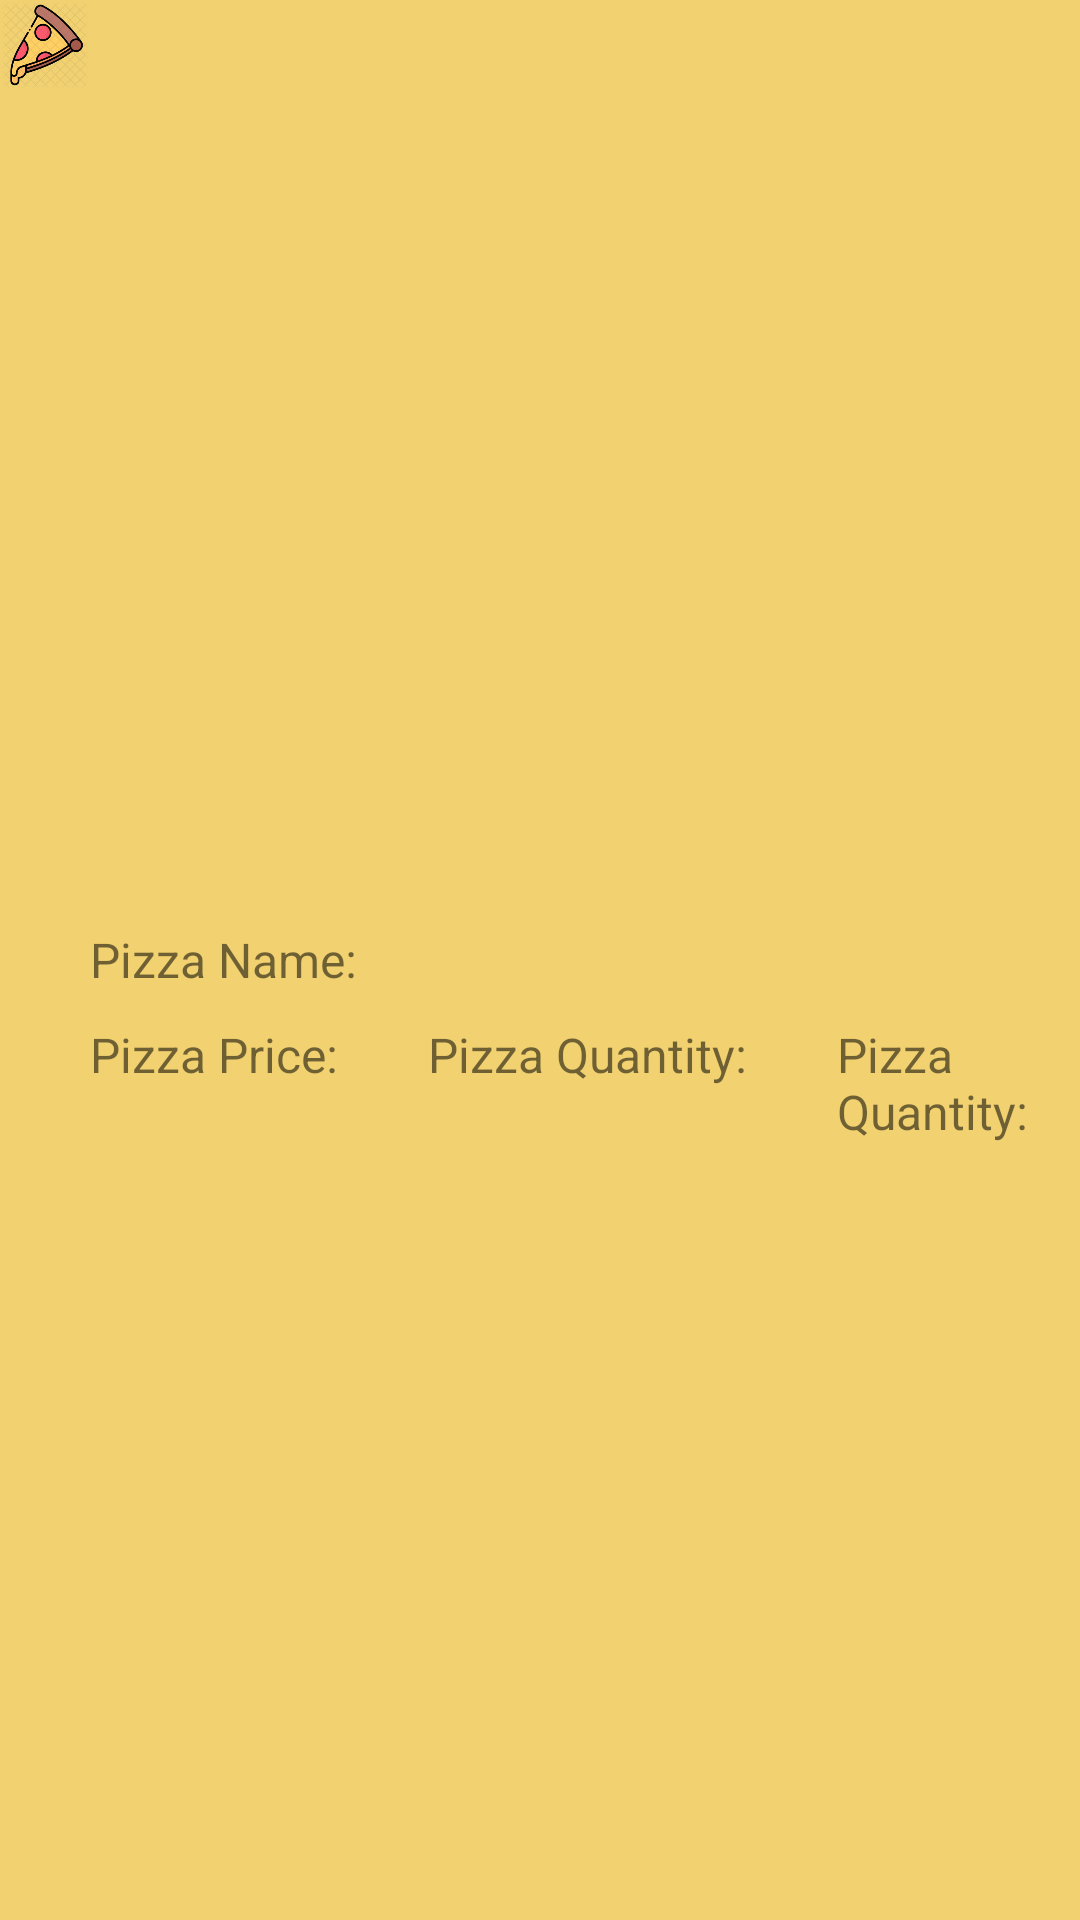

Icon click points for this 1080 x 1920 phone screenshot, format [x,y]:
pizza: [46,45]
